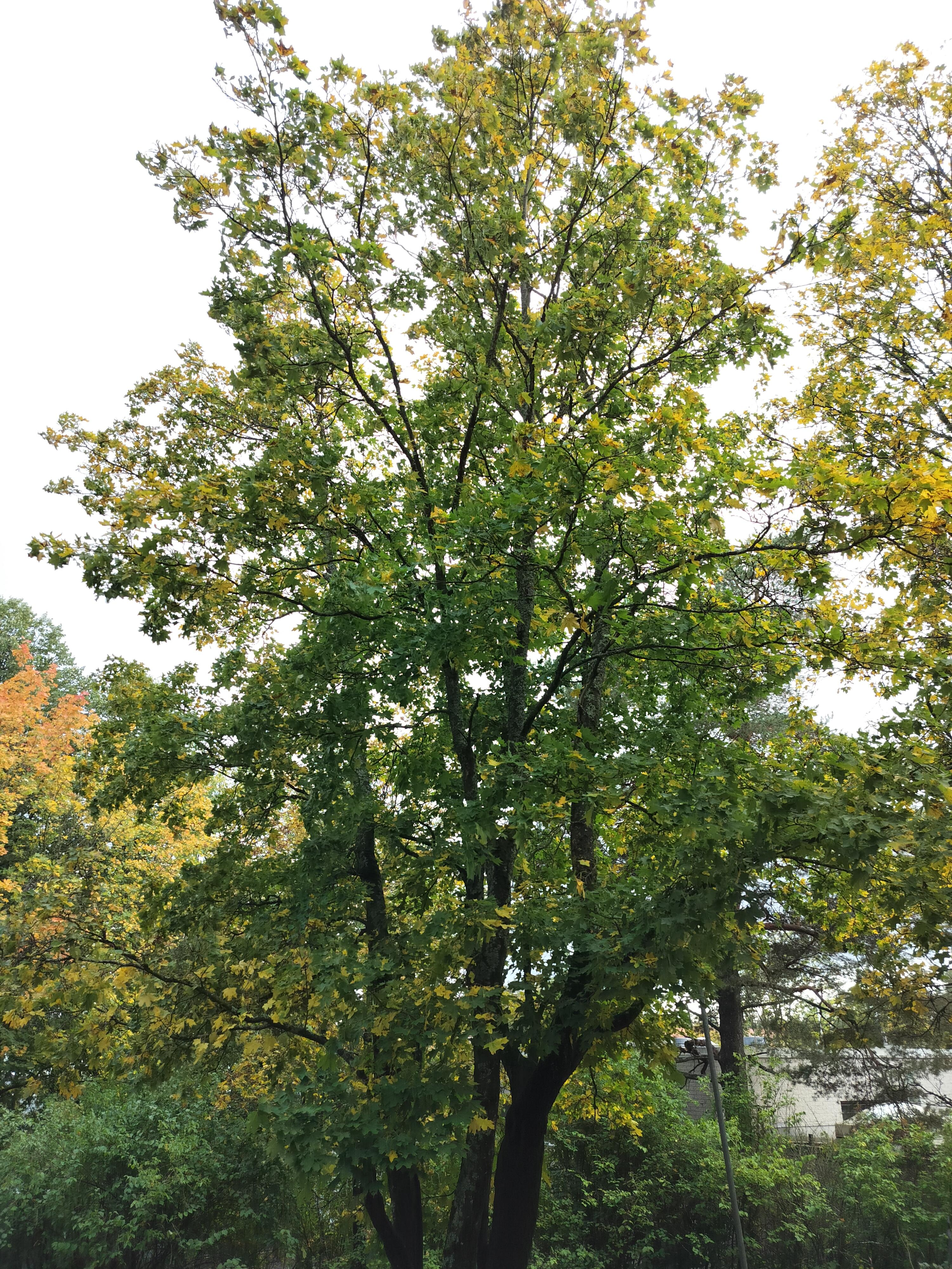Maple: (158, 1, 833, 1269)
